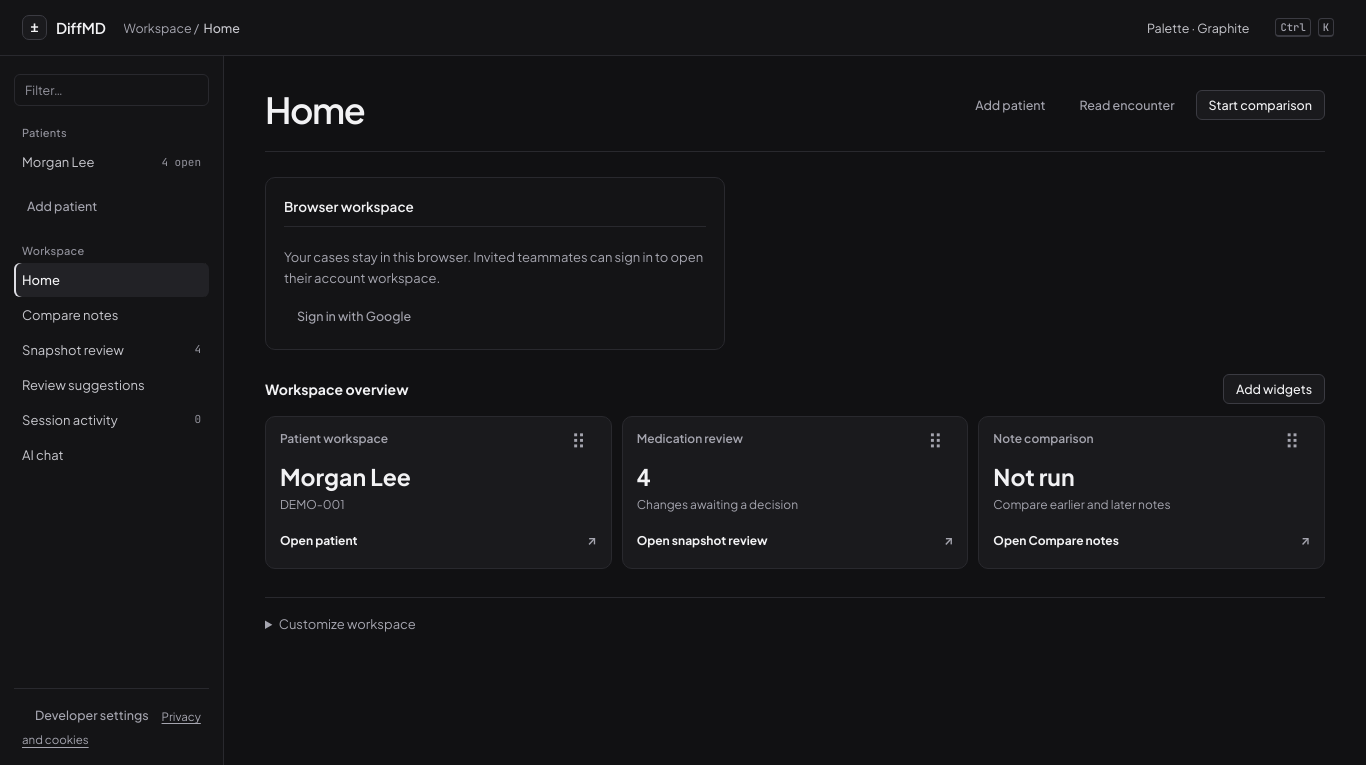
Test: Clinical Diff Veritas Editorial UI › preserves edited notes when replacing them with encounter notes is canceled
This screenshot has width=1366, height=765.
Later steps or results of the test are not shown.
Click the button "Compare notes" at (112, 315), box [14,298,209,332]
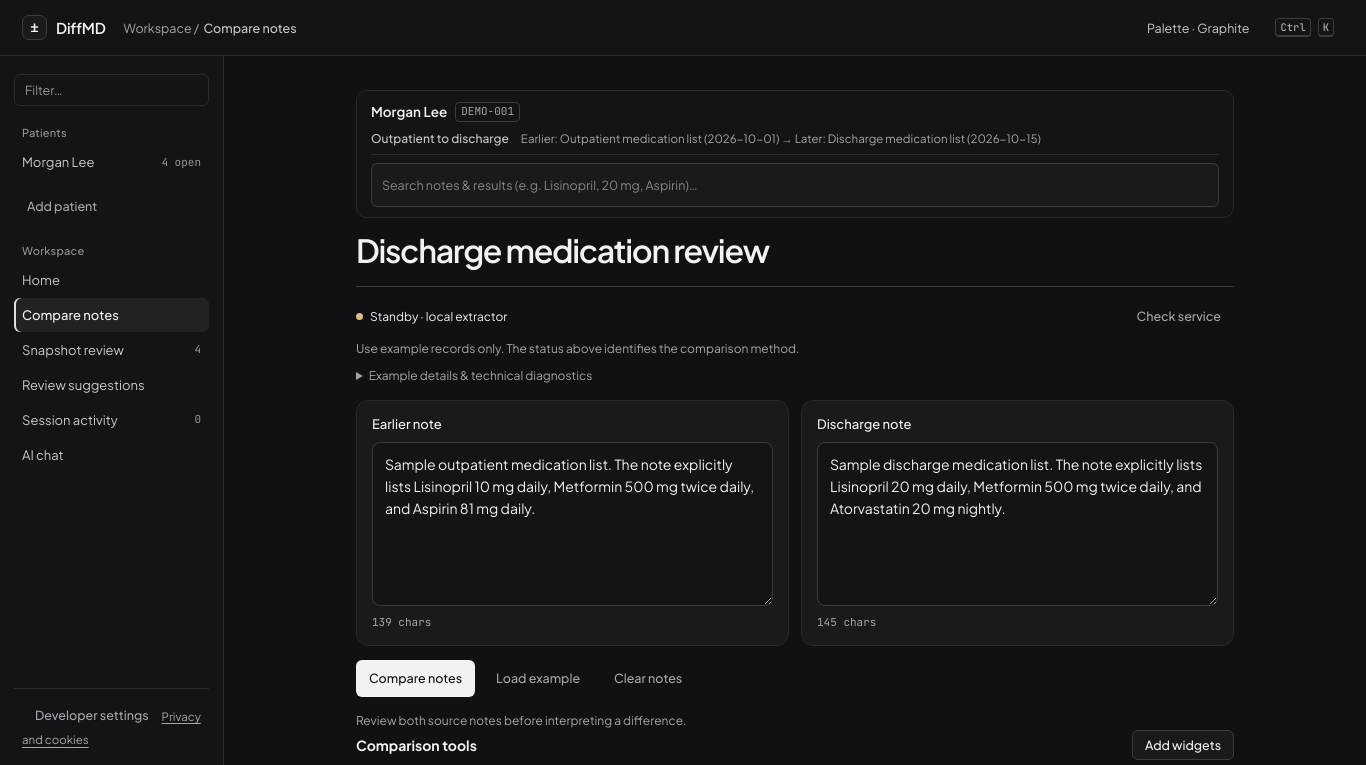
Replace the text in the text box with id "earlier-note" with "An edited example note." at (572, 524), box [372,442,773,606]
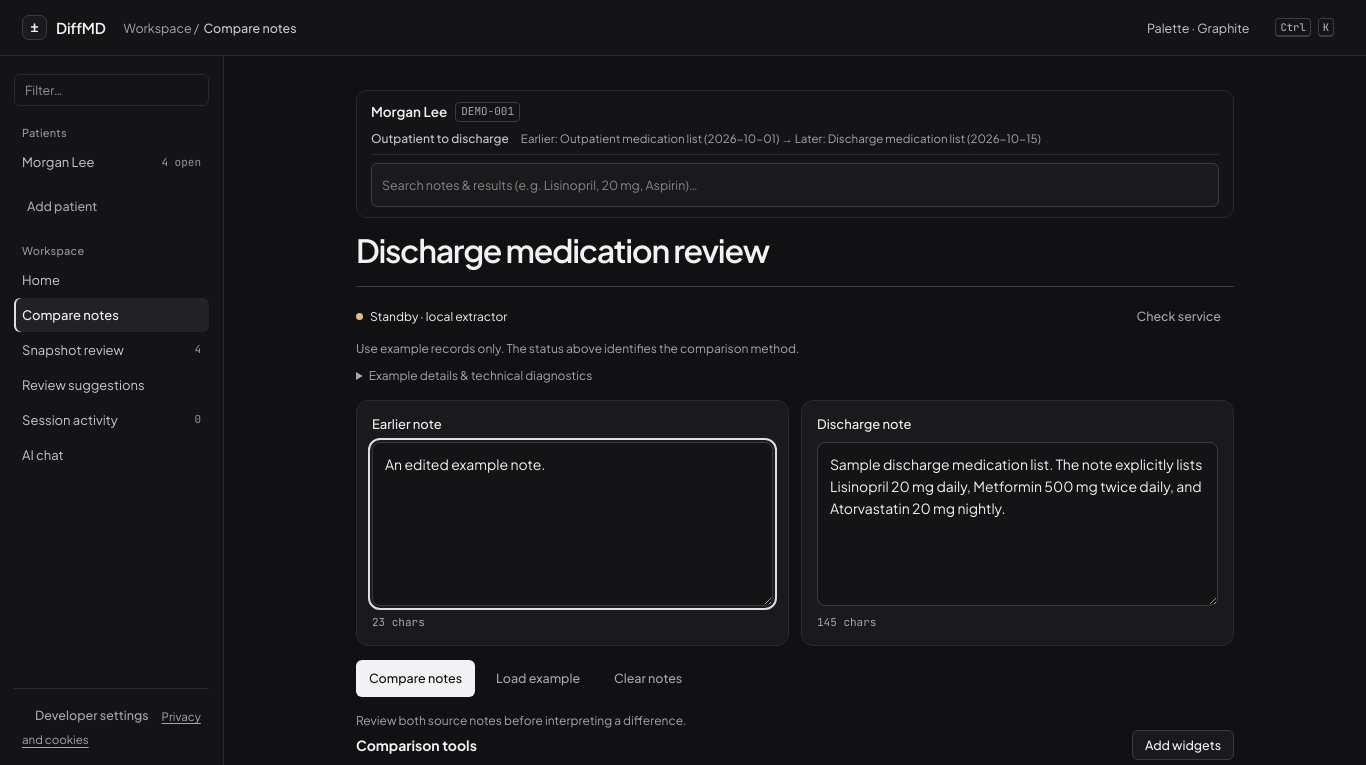
Click the button "Morgan Lee 4 open" at (112, 163), box [14,146,209,180]
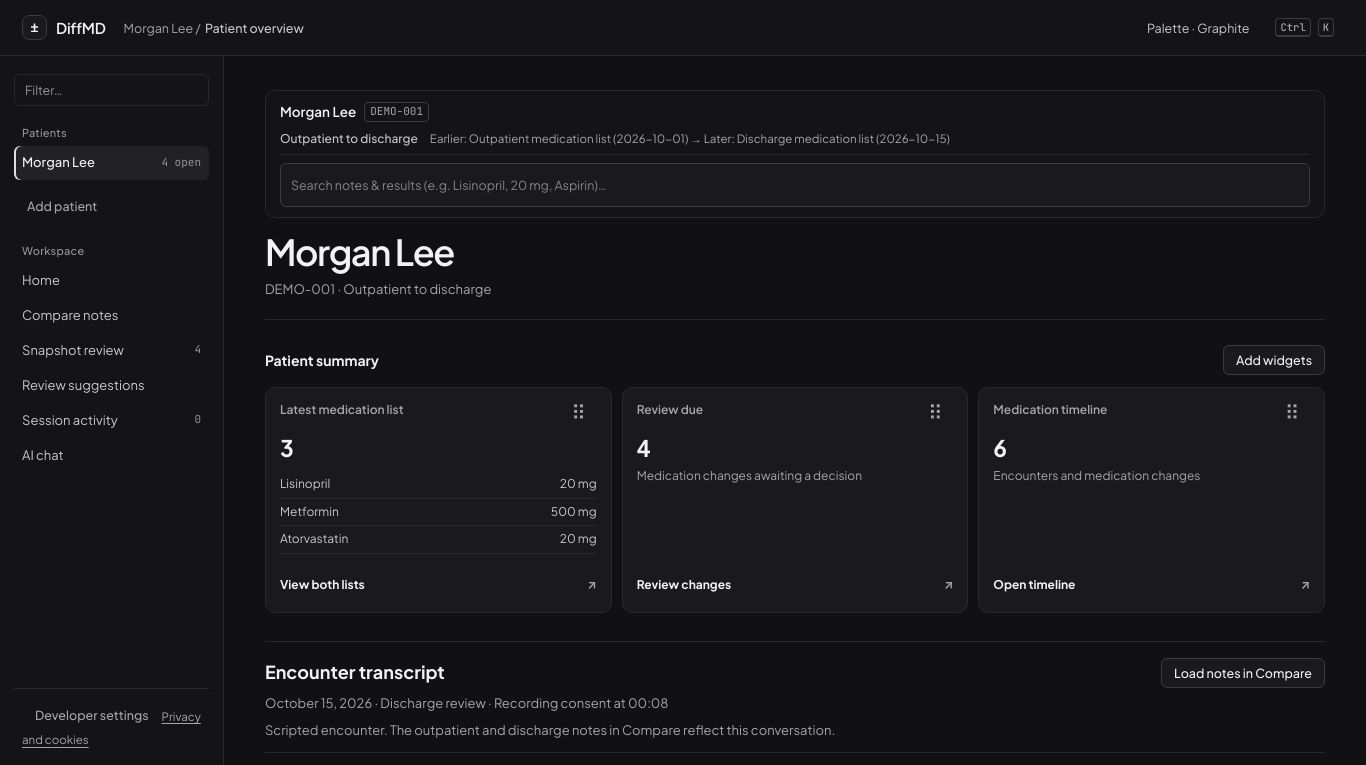
Click the button "Load notes in Compare" at (1243, 673), box [1161,658,1325,688]
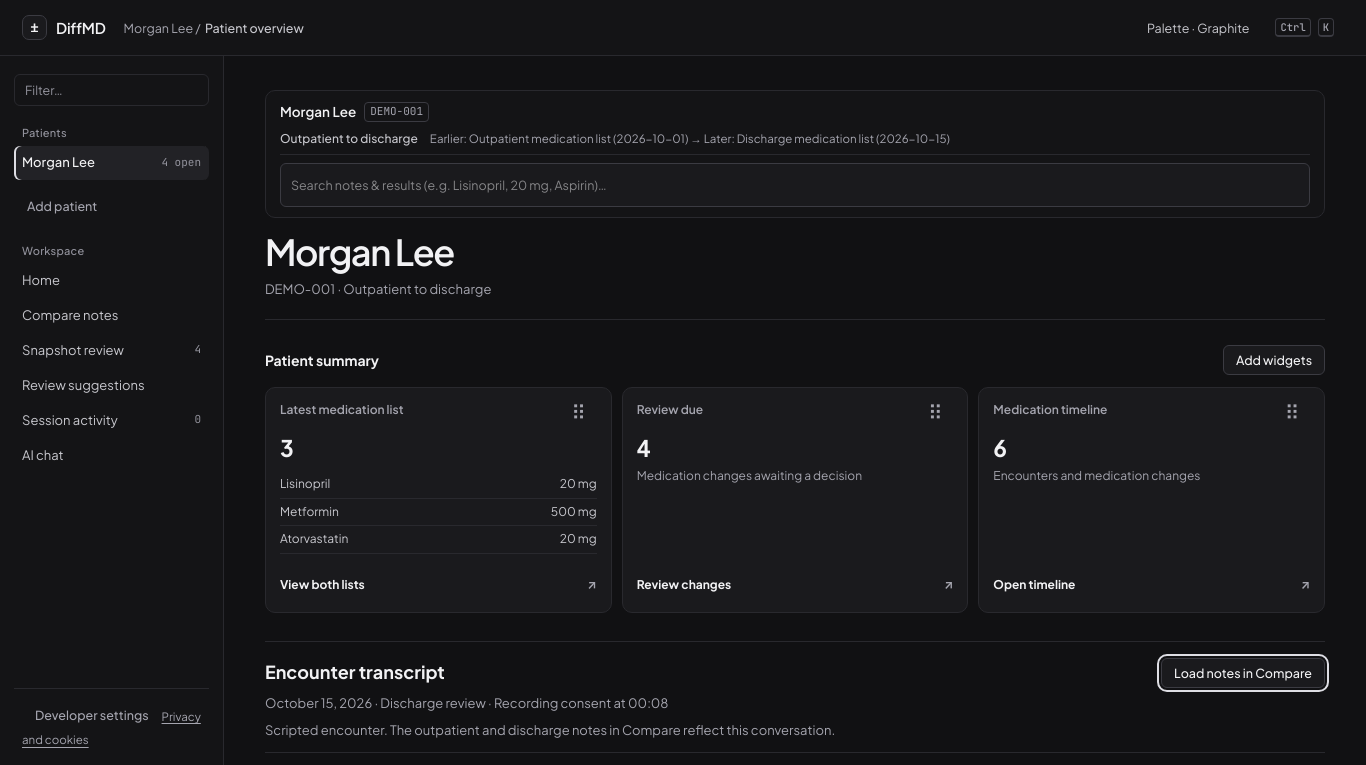
Expected: the heading "Morgan Lee" is shown, [265,229,454,274]
Click the button "Compare notes" at (112, 315), box [14,298,209,332]
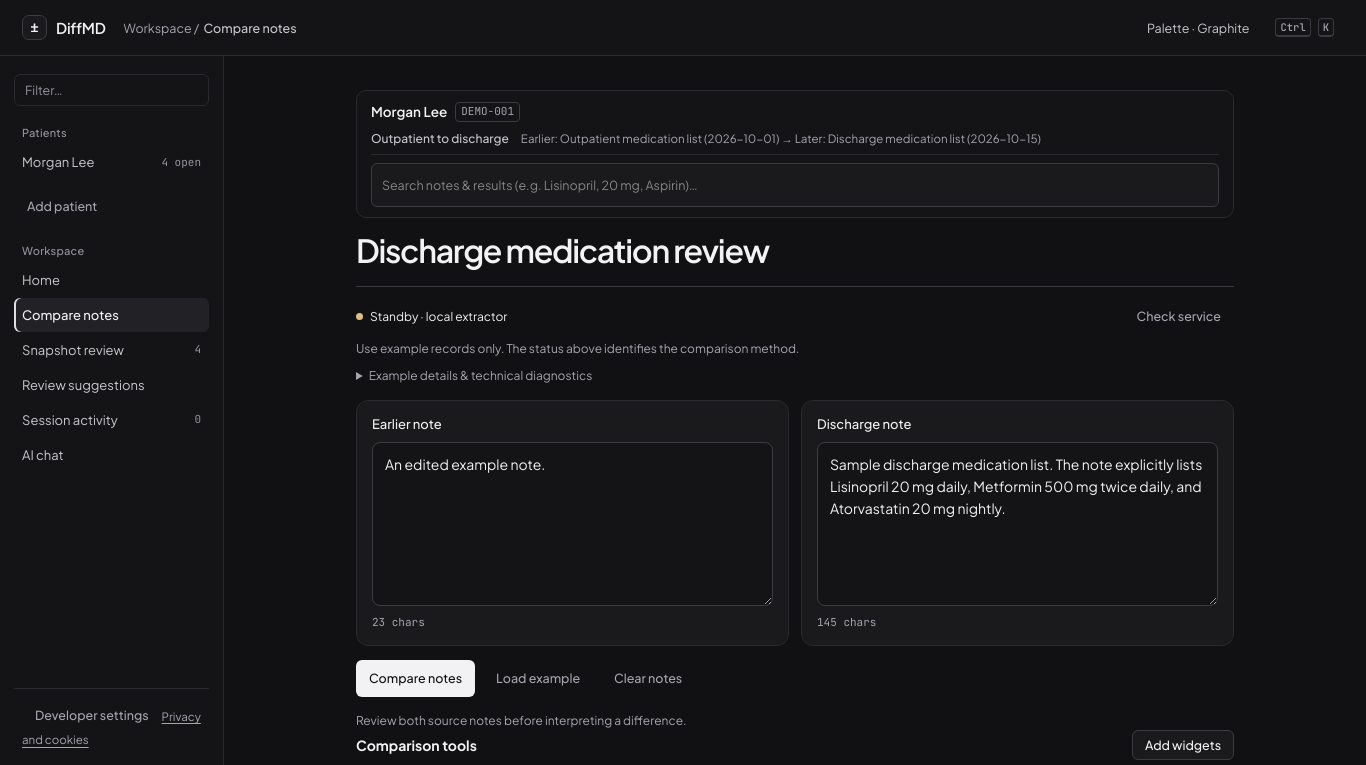
Expected: the text box with id "earlier-note" holds "An edited example note.", [372,442,773,606]
